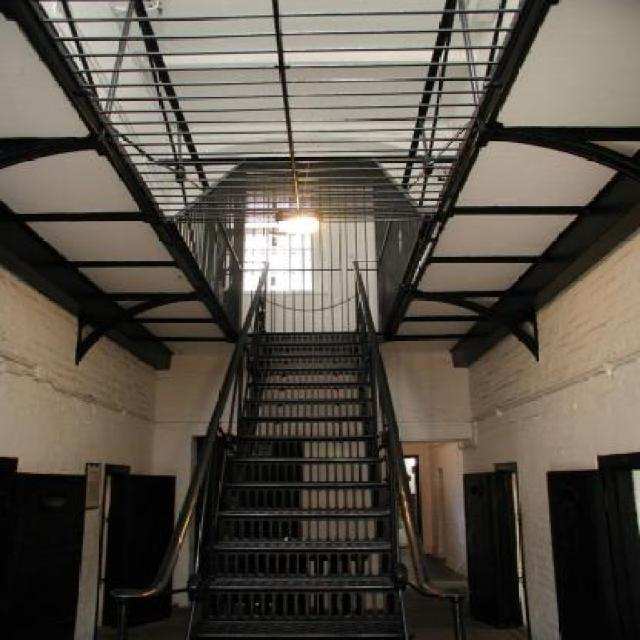stair: (204, 336, 404, 640)
